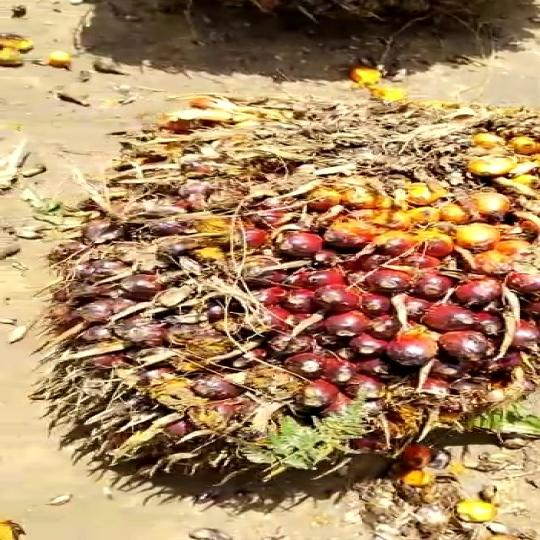masak: (62, 99, 540, 496)
